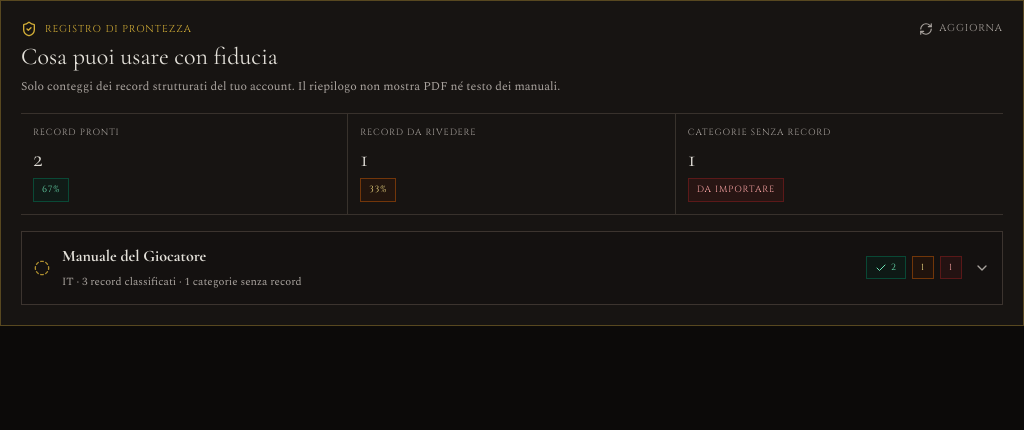
Test: LibraryCoverageReadiness › shows an error state when the category record fetch fails
Click the button that starts with "Manuale del Giocatore". click: (134, 256)
box: [22,232,1002,304]
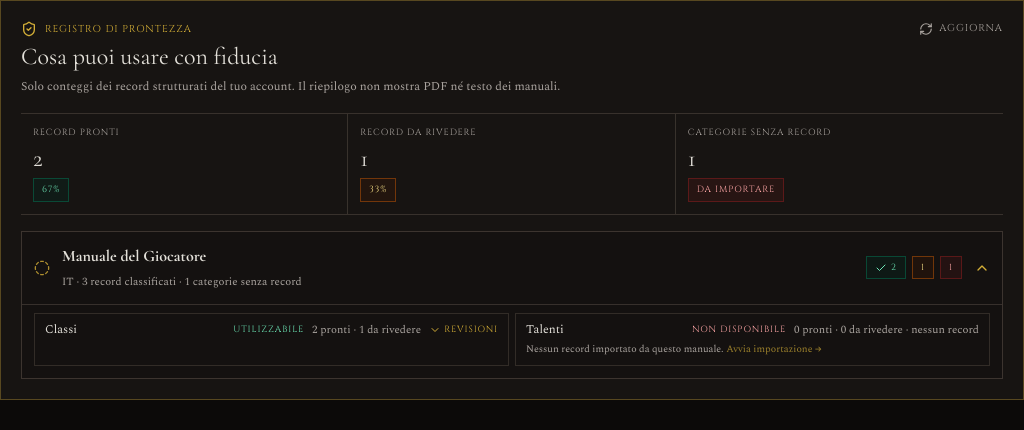
Click the button with test id "expand-category-manuale-giocatore.pdf-class". click: (464, 330)
box: [429,323,498,336]
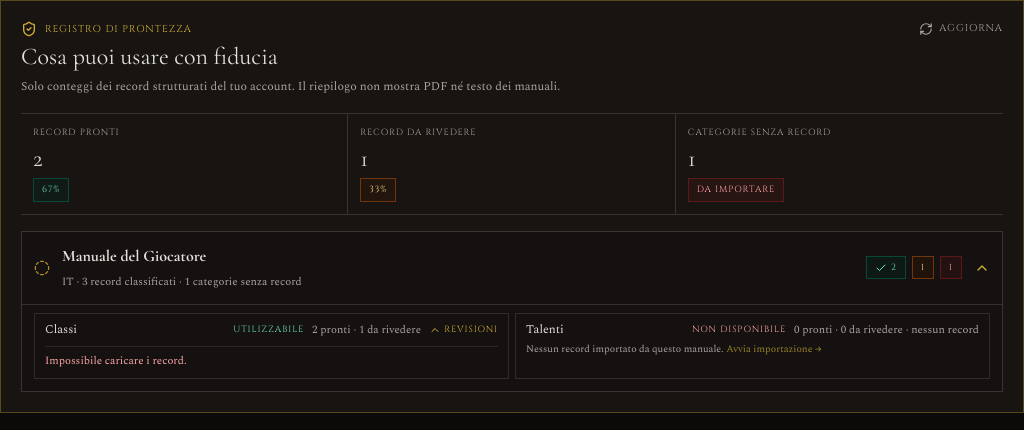
Expected: the element with test id "category-records-list-manuale-giocatore.pdf-class" is shown, [45,346,498,370]
Expected: the element with test id "category-records-list-manuale-giocatore.pdf-class" shows "Impossibile caricare", [45,352,187,369]
